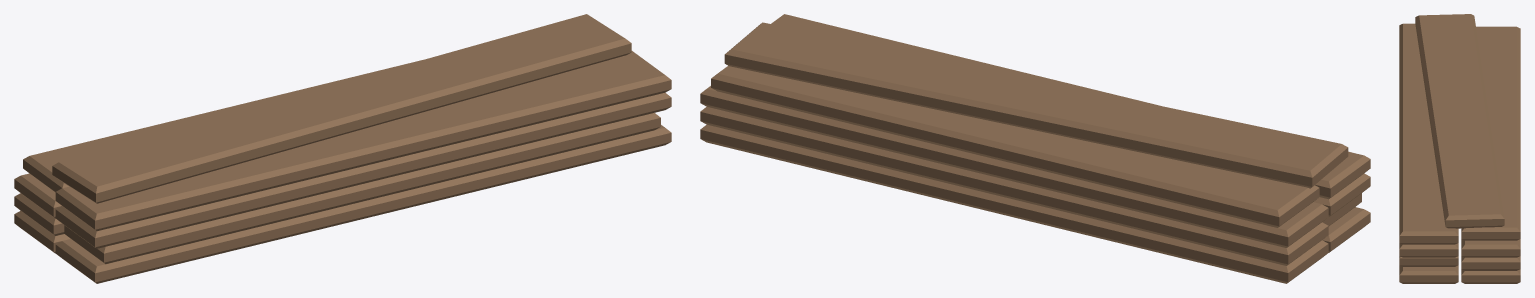
The model's file is props_83.glb.
The picture shows the model from 3 angles, left to right: view 1: azimuth 30°, elevation 25°; view 2: azimuth 150°, elevation 25°; view 3: azimuth 270°, elevation 25°; orthographic projection. The views are drawn at different scales.
Parts seen in each view (by area): view 1: props_83; view 2: props_83; view 3: props_83.
Boxes of the visible parts, x1,y1,x2,y2 form: props_83: (14, 14, 671, 283); props_83: (700, 14, 1370, 283); props_83: (1399, 14, 1520, 283).
Size of the model in its own units: 3.54 by 0.5079 by 0.8586.
Materials: 1 (1 with a texture image).
